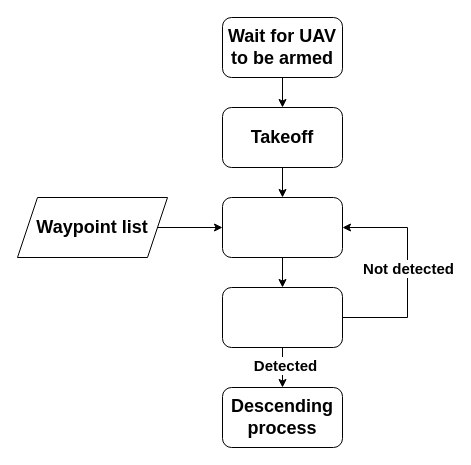
The diagram is 471 pixels wide and 465 high, and some of its shapes have lost their labels. Here are the shapes that lost their labels. From the top down, the box of each, then its label:
(222, 196, 342, 258): Fly to next waypoint
(222, 286, 342, 348): Check for square
